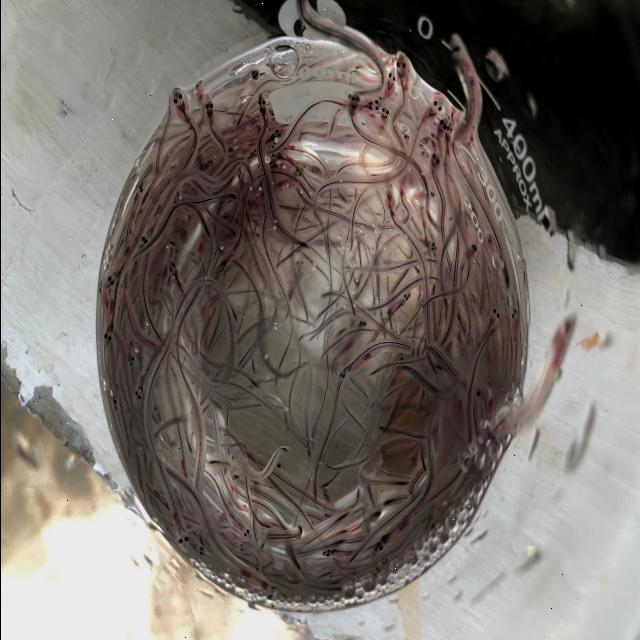glass_eel: (445, 31, 469, 72), (168, 86, 190, 122), (394, 46, 411, 88), (427, 92, 445, 122), (176, 516, 190, 554), (192, 534, 210, 560), (259, 576, 277, 602), (370, 534, 390, 556), (344, 88, 360, 115), (100, 266, 114, 296), (202, 96, 215, 128), (101, 325, 114, 356), (106, 386, 120, 414), (246, 59, 262, 83), (362, 94, 381, 114), (334, 362, 351, 384), (266, 148, 282, 171), (164, 232, 178, 258), (382, 66, 396, 92), (427, 152, 442, 176), (320, 540, 338, 560), (124, 346, 138, 370), (133, 181, 149, 202), (236, 522, 252, 542), (194, 76, 204, 108), (167, 258, 179, 284), (254, 90, 266, 116), (434, 115, 446, 140), (130, 379, 142, 403), (134, 234, 150, 252), (397, 288, 415, 304), (290, 164, 306, 182), (354, 312, 370, 330), (489, 302, 503, 322), (268, 126, 286, 141), (442, 118, 454, 138), (377, 106, 391, 123), (224, 140, 237, 158), (424, 240, 439, 254), (470, 241, 480, 261), (232, 542, 248, 554), (234, 164, 246, 180), (262, 139, 275, 153), (472, 388, 487, 400), (508, 304, 518, 322), (482, 232, 492, 250), (401, 128, 411, 144)
